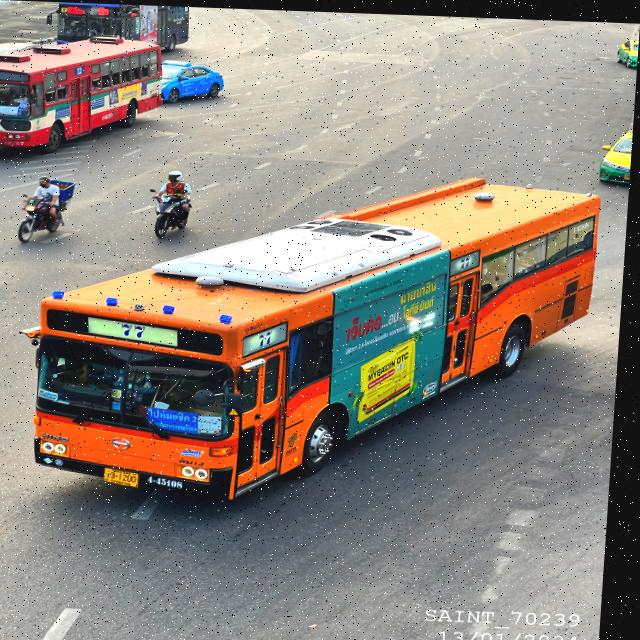BMTA-bus: (21, 162, 607, 510)
Bus-Line-Number: (110, 312, 170, 342), (259, 328, 278, 345)
Destination-Sign-Normal: (151, 403, 208, 433)
